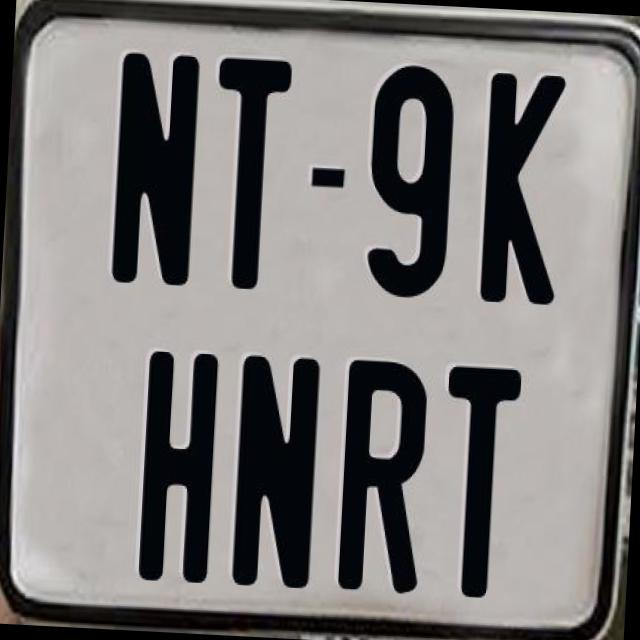9: (362, 59, 458, 302)
H: (136, 348, 220, 582)
K: (479, 71, 572, 310)
N: (231, 350, 326, 588), (109, 50, 199, 289)
R: (336, 357, 436, 598)
T: (205, 54, 294, 296), (434, 360, 522, 598)
